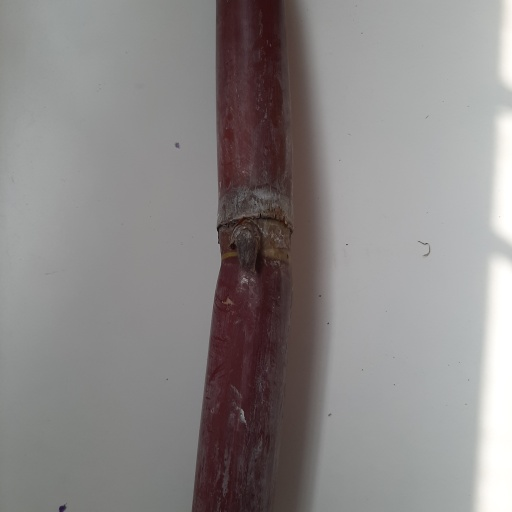Bud: (233, 222, 261, 276)
